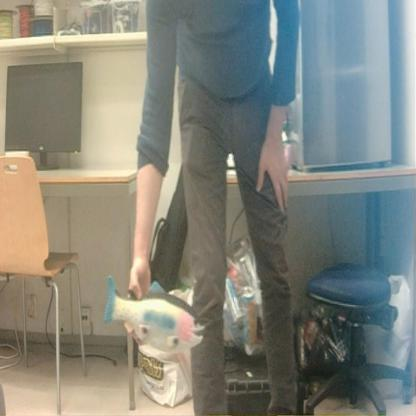rubberfish: (101, 272, 207, 354)
